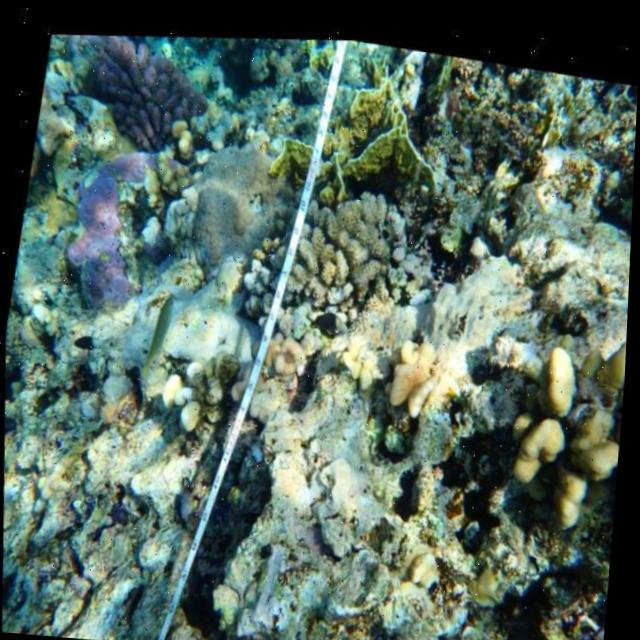Bleached Coral: (375, 196, 579, 373), (163, 102, 303, 279), (233, 295, 340, 408), (371, 315, 474, 421), (216, 216, 297, 317)
Healthy Coral: (63, 26, 197, 143)
